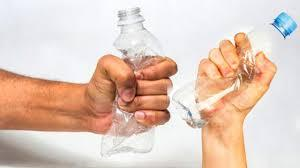plastic: (166, 6, 300, 131), (103, 7, 172, 161)
